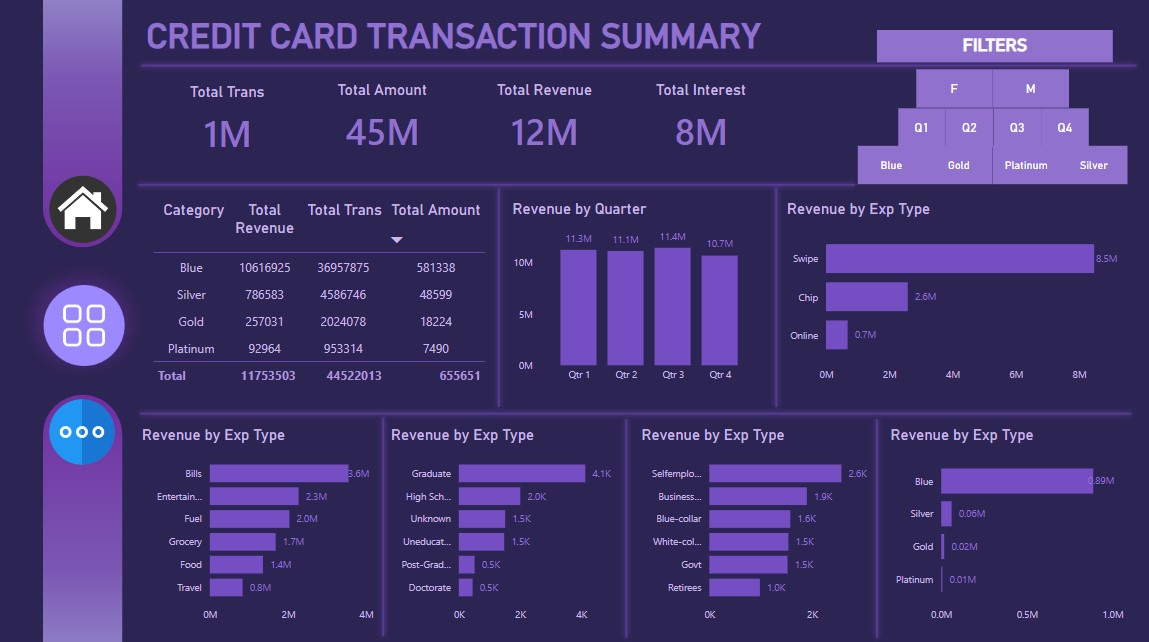

Layout of this report page (visuals, bound fields, positions):
{"tool":"powerbi","page":{"name":"SUMMARY","canvas":[1280,720],"ordinal":1},"visuals":[{"type":"textbox","box":[160.3,11.5,736.3,60.5],"z":0},{"type":"card","title":"Total Trans","fields":{"Values":["Sum(credit_card.Total_Trans_Vol)"]},"box":[165.9,92.6,176.1,91.3],"z":1000,"group":"g1"},{"type":"advancedSlicerVisual","fields":{"Values":["credit_card.Qtr"]},"box":[994.8,114.5,225.8,54],"z":1000,"group":"g2"},{"type":"tableEx","fields":{"Values":["credit_card.Card_Category","Sum(credit_card.Total_Revolving_Bal)","Sum(credit_card.Total_Trans_Amt)","Sum(credit_card.Total_Trans_Vol)"]},"box":[165.9,211.9,382.7,246.4],"z":1000},{"type":"textbox","box":[976.8,32.7,261.8,36],"z":2000},{"type":"card","title":"Total Amount","fields":{"Values":["Sum(credit_card.Total_Trans_Amt)"]},"box":[339.6,90.3,173.7,91.3],"z":2000,"group":"g1"},{"type":"clusteredBarChart","title":"Revenue by Exp Type","fields":{"Category":["credit_card.Exp Type"],"Y":["Sum(credit_card.Total_Revolving_Bal)"]},"box":[154.4,473,270,226.7],"z":3000},{"type":"card","title":"Total Revenue","fields":{"Values":["Sum(credit_card.Total_Revolving_Bal)"]},"box":[515.7,90.3,181,91.3],"z":4000,"group":"g1"},{"type":"clusteredBarChart","title":"Revenue by Exp Type","fields":{"Category":["customer.Education_Level"],"Y":["CountNonNull(credit_card.Exp Type)"]},"box":[431.8,473,270,226.7],"z":4000},{"type":"advancedSlicerVisual","fields":{"Values":["customer.Gender"]},"box":[1016,72,181.6,54],"z":5000,"group":"g2"},{"type":"card","title":"Total Interest","fields":{"Values":["Sum(credit_card.Interest_Earned)"]},"box":[696,90.3,168.8,91.3],"z":5000,"group":"g1"},{"type":"clusteredBarChart","title":"Revenue by Exp Type","fields":{"Y":["CountNonNull(credit_card.Exp Type)"],"Category":["customer.Customer_Job"]},"box":[709.2,473,270,226.7],"z":5000},{"type":"clusteredBarChart","title":"Revenue by Exp Type","fields":{"Y":["Sum(credit_card.Customer_Acq_Cost)"],"Category":["credit_card.Card_Category"]},"box":[986.7,473,270,226.7],"z":6000},{"type":"advancedSlicerVisual","fields":{"Values":["credit_card.Card_Category"]},"box":[950.6,157.1,312.5,54],"z":7000,"group":"g2"},{"type":"clusteredBarChart","title":"Revenue by Exp Type","fields":{"Category":["credit_card.Use Chip"],"Y":["Sum(credit_card.Total_Revolving_Bal)"]},"box":[872.1,221.7,384.3,211.9],"z":7000},{"type":"lineStackedColumnComboChart","title":"Revenue by Quarter","fields":{"Category":["credit_card.Week_Start_Date.Variation.Date Hierarchy.Quarter"],"Y":["Sum(credit_card.Total_Trans_Amt)"]},"box":[566.6,221.7,282.5,211.9],"z":8000},{"type":"group","id":"g1","title":"Group 1","box":[165.9,90.3,699.7,93.6],"z":9000},{"type":"shape","box":[153.8,47.4,1117.5,52.4],"z":10000},{"type":"shape","box":[151.1,433.6,1113.6,52.6],"z":11000},{"type":"shape","box":[150.5,178.3,808,54],"z":12000},{"type":"shape","box":[484.5,203.7,142.9,254.6],"z":13000},{"type":"shape","box":[793.3,203.7,142.9,254.6],"z":14000},{"type":"shape","box":[356.4,458.2,142.9,254.6],"z":15000},{"type":"shape","box":[627.4,459.9,142.9,254.6],"z":16000},{"type":"shape","box":[905,460,143.3,255],"z":17000},{"type":"image","box":[52.4,189.8,85.1,85.1],"z":18000},{"type":"image","box":[39.3,306,111.3,109.6],"z":19000},{"type":"image","box":[49.1,435.2,90,90],"z":20000},{"type":"group","id":"g2","title":"Group 2","box":[950.6,72,312.5,139.1],"z":21000}]}

Visuals, with their boxes in screenshot pixels (x1, y1, x2, y2), scaled from the page's 1280x720 canvas onto the 1149x642 screenshot:
textbox: 144/10/805/64
"Total Trans" card: 149/83/307/164
advancedSlicerVisual - credit_card.Qtr: 893/102/1096/150
tableEx - credit_card.Card_Category x Sum(credit_card.Total_Revolving_Bal): 149/189/492/409
textbox: 877/29/1112/61
"Total Amount" card: 305/81/461/162
"Revenue by Exp Type" clusteredBarChart: 139/422/381/624
"Total Revenue" card: 463/81/625/162
"Revenue by Exp Type" clusteredBarChart: 388/422/630/624
advancedSlicerVisual - customer.Gender: 912/64/1075/112
"Total Interest" card: 625/81/776/162
"Revenue by Exp Type" clusteredBarChart: 637/422/879/624
"Revenue by Exp Type" clusteredBarChart: 886/422/1128/624
advancedSlicerVisual - credit_card.Card_Category: 853/140/1134/188
"Revenue by Exp Type" clusteredBarChart: 783/198/1128/387
"Revenue by Quarter" lineStackedColumnComboChart: 509/198/762/387
"Group 1" group: 149/81/777/164
shape: 138/42/1141/89
shape: 136/387/1135/434
shape: 135/159/860/207
shape: 435/182/563/409
shape: 712/182/840/409
shape: 320/409/448/636
shape: 563/410/691/637
shape: 812/410/941/638
image: 47/169/123/245
image: 35/273/135/371
image: 44/388/125/468
"Group 2" group: 853/64/1134/188
